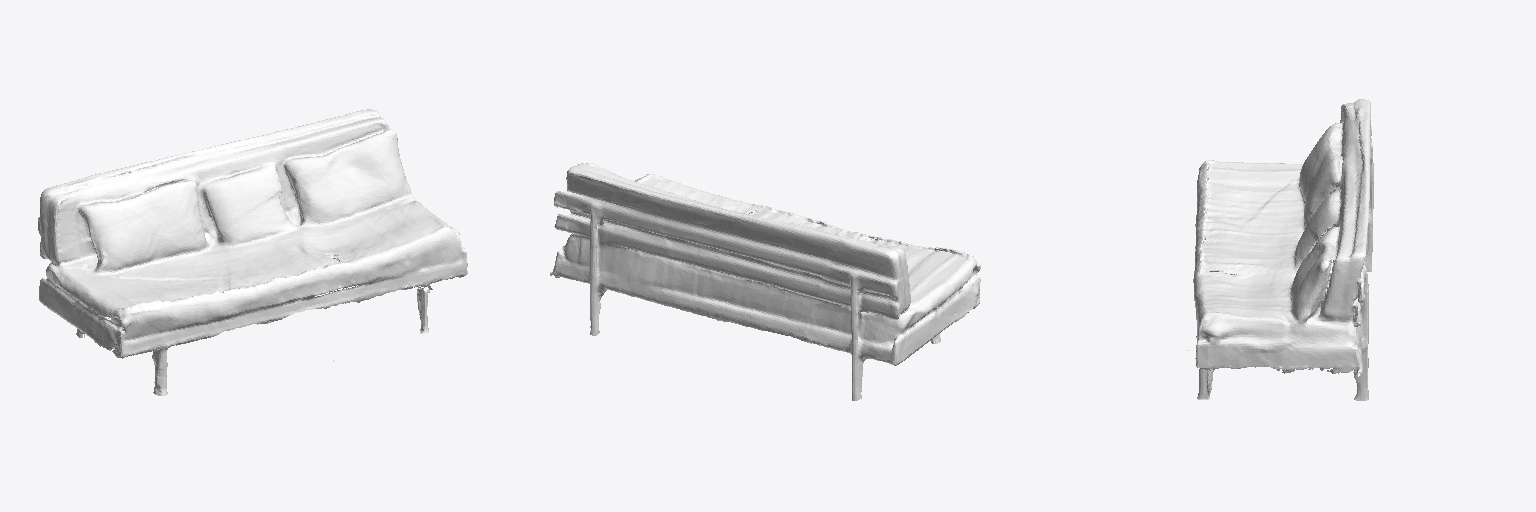
The model's file is scaniverse-20210703-120826.obj.
The picture shows the model from 3 angles: view 1: azimuth 30°, elevation 25°; view 2: azimuth 150°, elevation 25°; view 3: azimuth 270°, elevation 25°; orthographic projection.
Visible parts, largest first — view 1: mesh; view 2: mesh; view 3: mesh.
Part boxes in pixels (x1,y1,x2,y2): mesh: (38, 109, 470, 395); mesh: (550, 163, 980, 400); mesh: (1186, 99, 1373, 421).
Bounding box in the file's own units: 2.01 × 0.8567 × 0.9234.